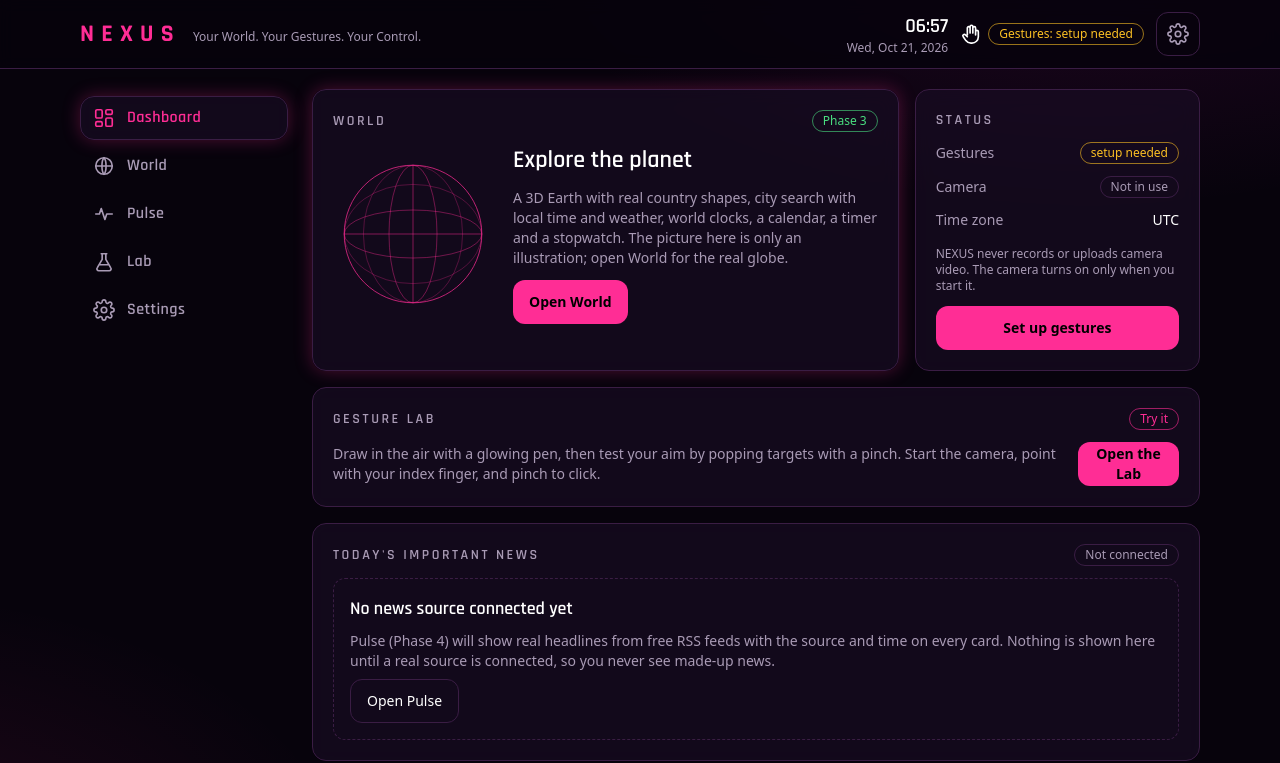
Test: NEXUS shell › opens settings from the top bar button
What coordinates should you click on to do the following:
click the button named "Open settings"
I would click on:
 (1178, 34)
Its box is [1156,12,1200,56].
(page scrolled)
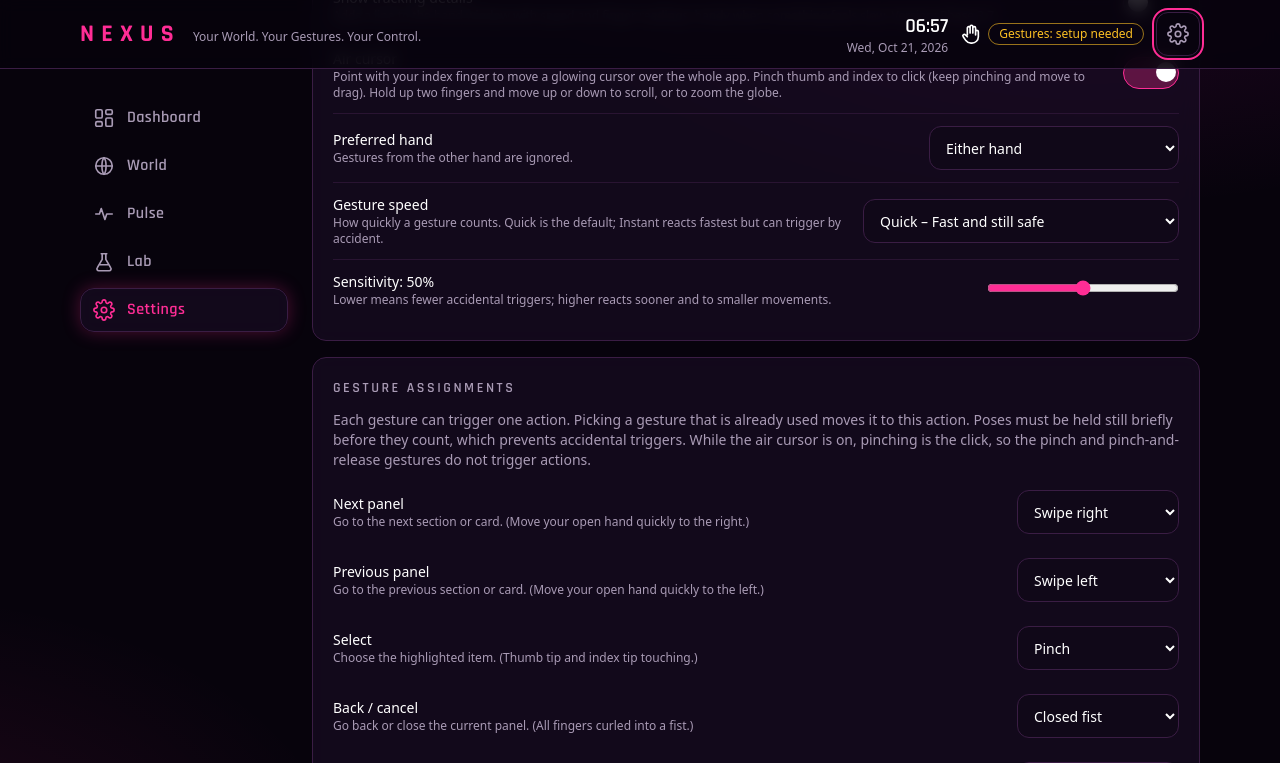
Result: the heading "Gesture assignments" is shown at [333,378,515,398]
